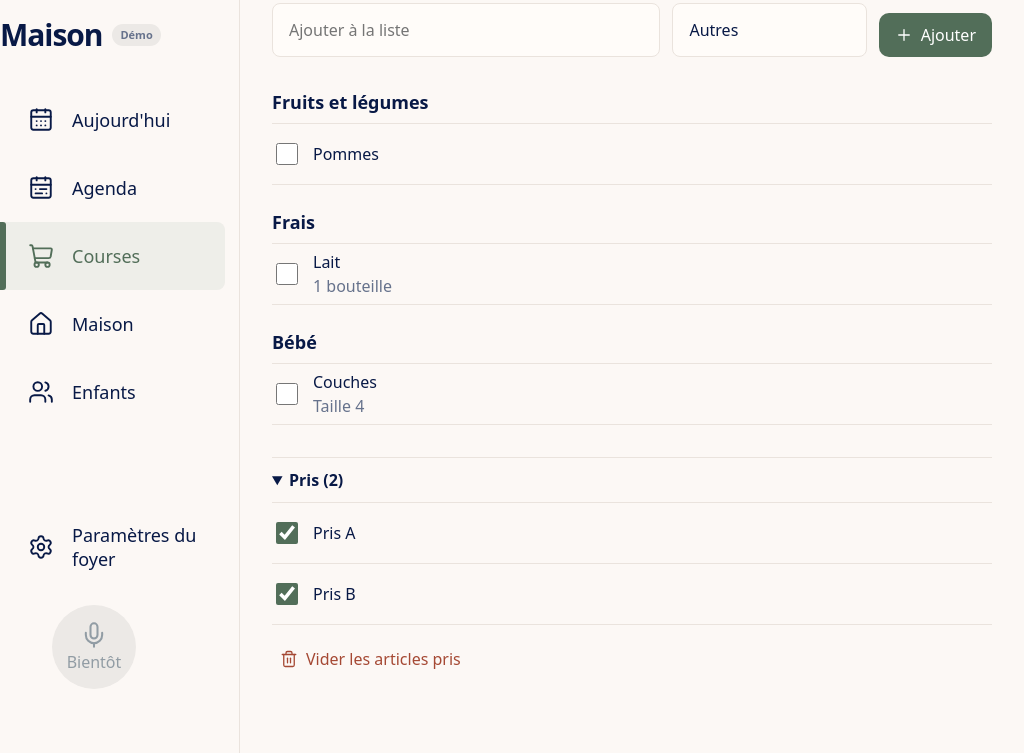
it: retries a partially failed bulk clear using only remaining checked items
(page scrolled)
Expected: the text "Pris A" is shown, [313,522,356,544]
Click the button "Vider les articles pris".
click(370, 659)  # box [272,637,469,681]
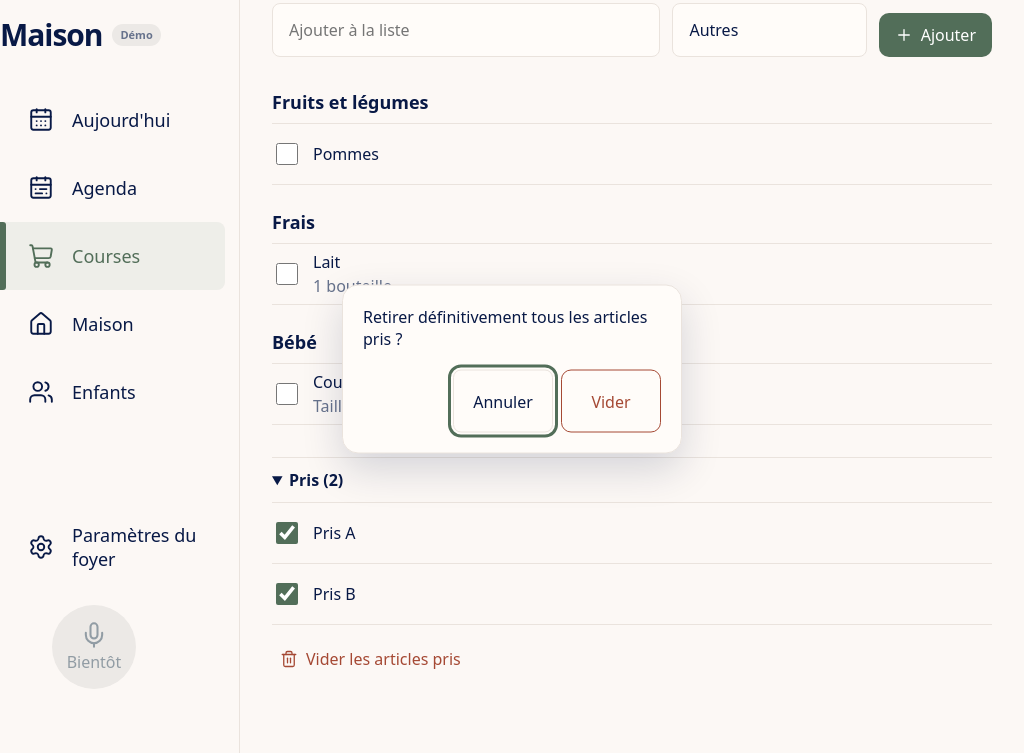
Click the button "Vider".
click(611, 401)  # box [561,370,661,432]
(page scrolled)
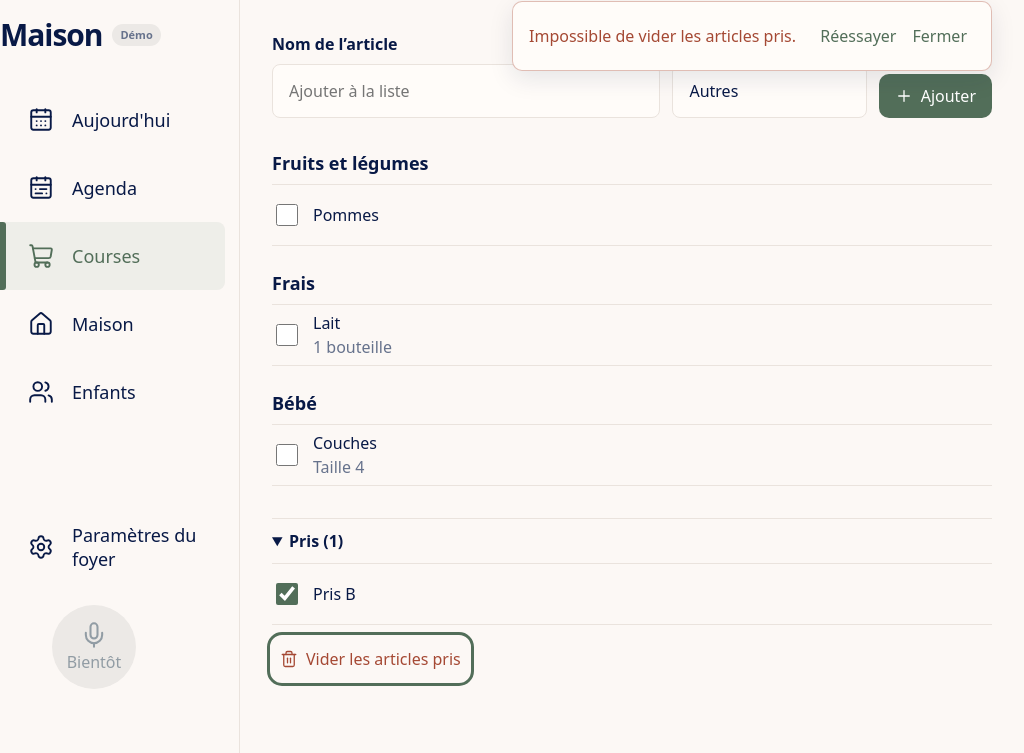
Expected: the message shows "vider les articles pris", [529,25,796,47]
Click the button "Réessayer".
click(858, 36)  # box [812,14,904,58]
(page scrolled)
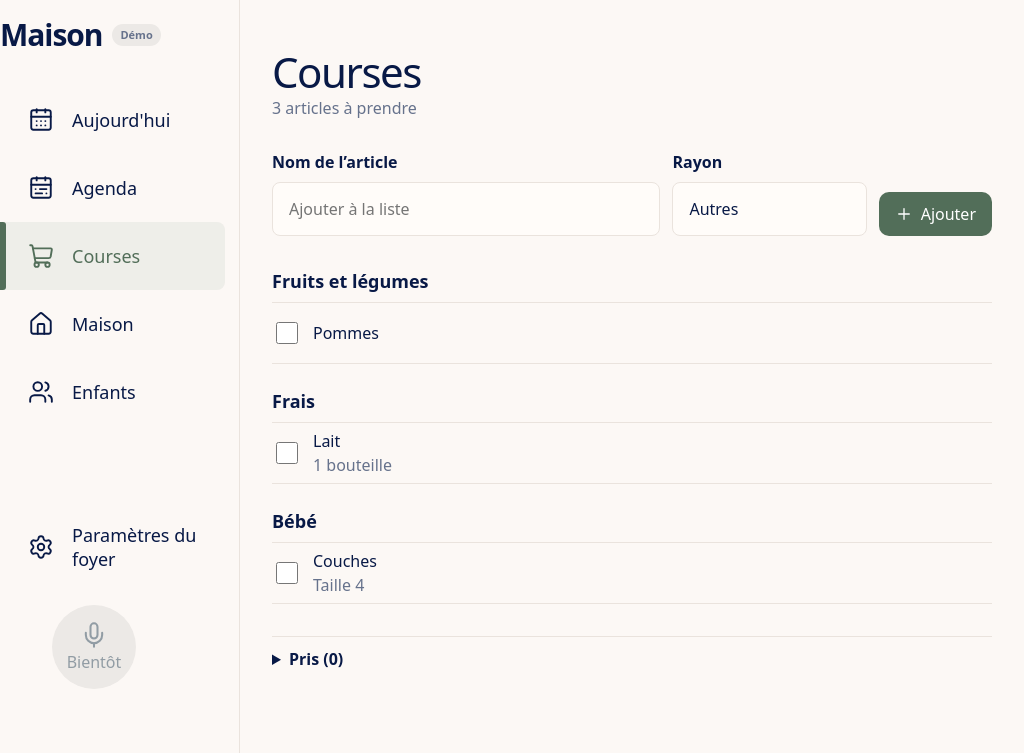
Expected: the message "Impossible de vider les articles pris. Réessayer Fermer" is gone
